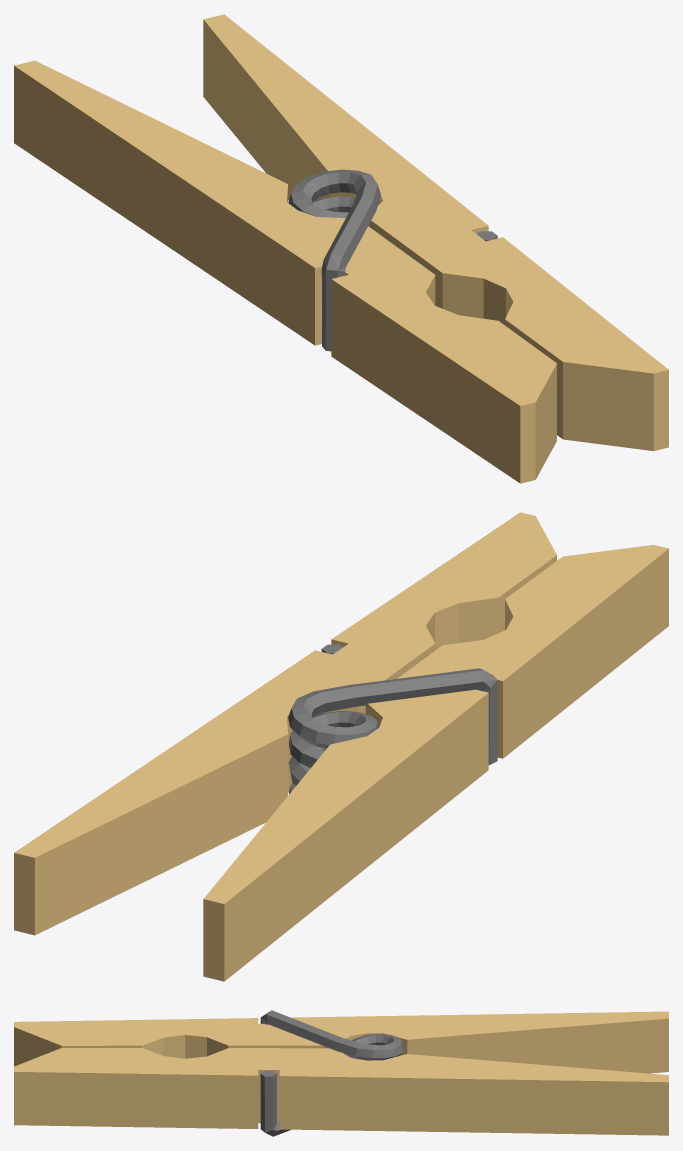
Rendered from Clothespin by Poly by Google - dwEVTGFZs35.glb.
3 renders of one model, top to bottom at view 1: azimuth 30°, elevation 25°; view 2: azimuth 150°, elevation 25°; view 3: azimuth 270°, elevation 25°, orthographic. The views are drawn at different scales.
Visible parts, largest first — view 1: Pegs; view 2: Pegs; view 3: Pegs.
Boxes of the visible parts, <box> form: Pegs: <box>14,14,668,483</box>; Pegs: <box>14,512,668,981</box>; Pegs: <box>14,1010,668,1136</box>.
Size of the model in its own units: 16.96 by 8.4 by 66.4.
Materials: 1 (1 with a texture image).
